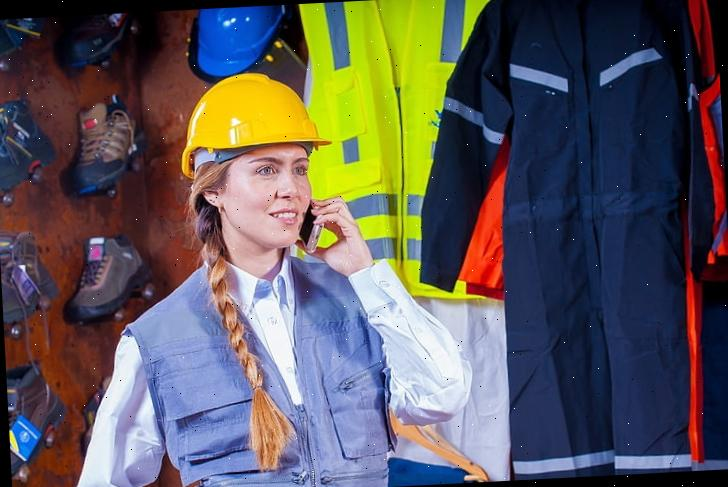helmet: (176, 66, 334, 173)
wear: (122, 266, 393, 487), (484, 0, 710, 217), (319, 0, 501, 269)
